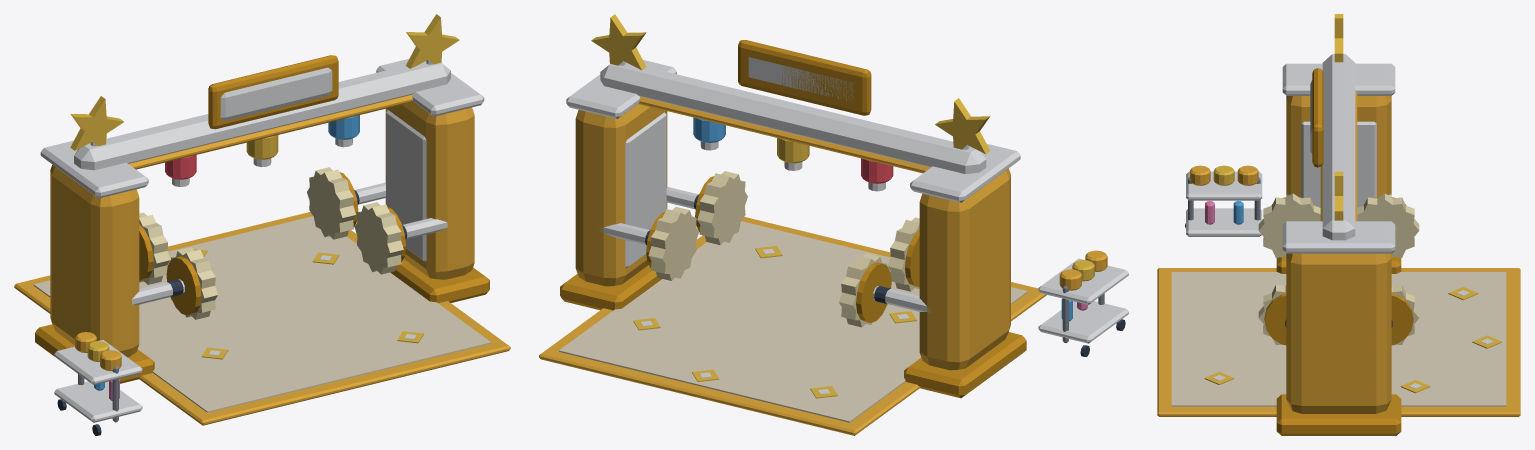
The model's file is wax.glb.
3 views of the same model, side by side, from view 1: azimuth 30°, elevation 25°; view 2: azimuth 150°, elevation 25°; view 3: azimuth 270°, elevation 25° (orthographic). The views are drawn at different scales.
Parts seen in each view (by area): view 1: wax_body, wax_pad_3, wax_pad_2, wax_pad_0, wax_pad_1; view 2: wax_body, wax_pad_3, wax_pad_2, wax_pad_1, wax_pad_0; view 3: wax_body, wax_pad_0, wax_pad_1, wax_pad_2, wax_pad_3.
Part boxes in pixels (box(x1,y1,x2,y2)): wax_body: box(14, 14, 510, 435); wax_pad_3: box(307, 167, 358, 239); wax_pad_2: box(354, 202, 405, 274); wax_pad_0: box(166, 247, 217, 319); wax_pad_1: box(139, 212, 170, 284); wax_body: box(539, 14, 1128, 435); wax_pad_3: box(646, 207, 698, 280); wax_pad_2: box(695, 171, 747, 245); wax_pad_1: box(839, 253, 891, 327); wax_pad_0: box(887, 217, 919, 291); wax_body: box(1157, 14, 1520, 435); wax_pad_0: box(1258, 193, 1320, 257); wax_pad_1: box(1357, 193, 1419, 257); wax_pad_2: box(1258, 284, 1286, 345); wax_pad_3: box(1391, 284, 1419, 345).
Size of the model in its own units: 5.2 by 2.9 by 3.8.
